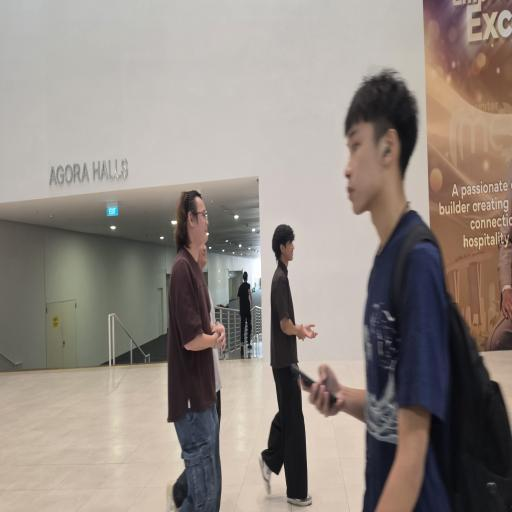person_right: (251, 209, 317, 507), (168, 181, 222, 512)
